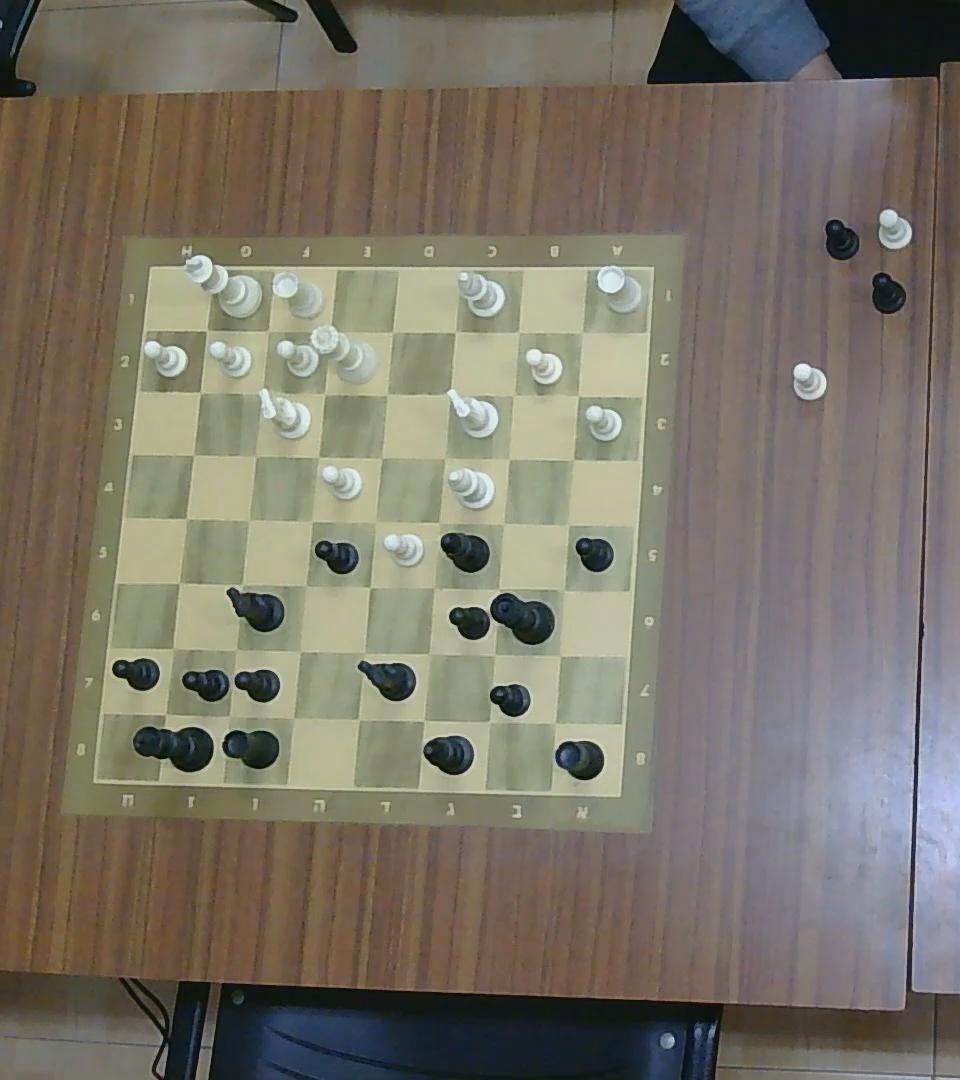xcorner: (215, 702, 242, 728), (153, 701, 178, 725), (477, 710, 502, 734), (167, 570, 191, 594), (281, 705, 305, 729), (161, 637, 185, 661), (350, 639, 374, 663), (288, 639, 311, 663), (412, 708, 435, 732), (543, 711, 568, 733), (347, 707, 370, 730), (224, 637, 246, 661), (230, 572, 252, 595), (318, 321, 341, 343), (438, 381, 459, 405), (175, 507, 197, 529), (245, 444, 267, 466), (363, 510, 385, 532), (182, 443, 204, 464), (195, 318, 216, 339), (360, 576, 380, 598), (295, 574, 315, 596), (423, 576, 443, 598), (493, 512, 513, 533), (563, 448, 583, 469), (483, 644, 504, 664), (428, 512, 448, 533), (239, 509, 259, 529), (370, 447, 390, 467), (258, 320, 278, 340), (420, 644, 440, 664), (383, 322, 403, 342), (252, 381, 272, 401), (499, 448, 518, 469), (302, 509, 321, 530), (376, 384, 395, 405), (445, 320, 464, 341), (559, 514, 578, 534), (568, 385, 587, 404), (504, 385, 523, 404), (550, 645, 569, 664), (489, 579, 508, 598), (435, 447, 453, 467), (315, 383, 333, 402), (190, 382, 209, 400), (510, 321, 528, 340), (308, 447, 326, 466), (573, 323, 591, 341), (555, 581, 573, 599)
